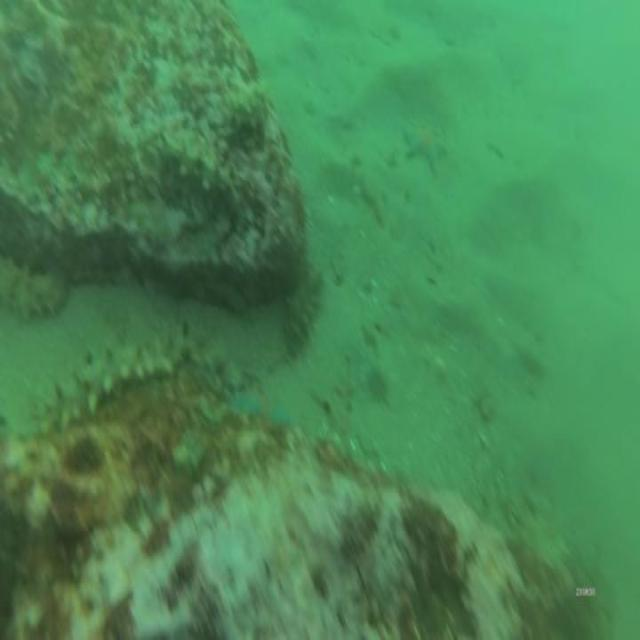holothurian: (36, 327, 186, 428), (160, 136, 242, 216), (0, 254, 70, 326), (282, 254, 325, 359), (222, 73, 270, 139)
starfish: (227, 375, 297, 436), (406, 122, 449, 174)
